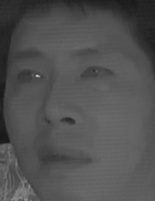eye: (80, 62, 115, 82), (14, 67, 47, 84)
mouth: (32, 143, 95, 177)
